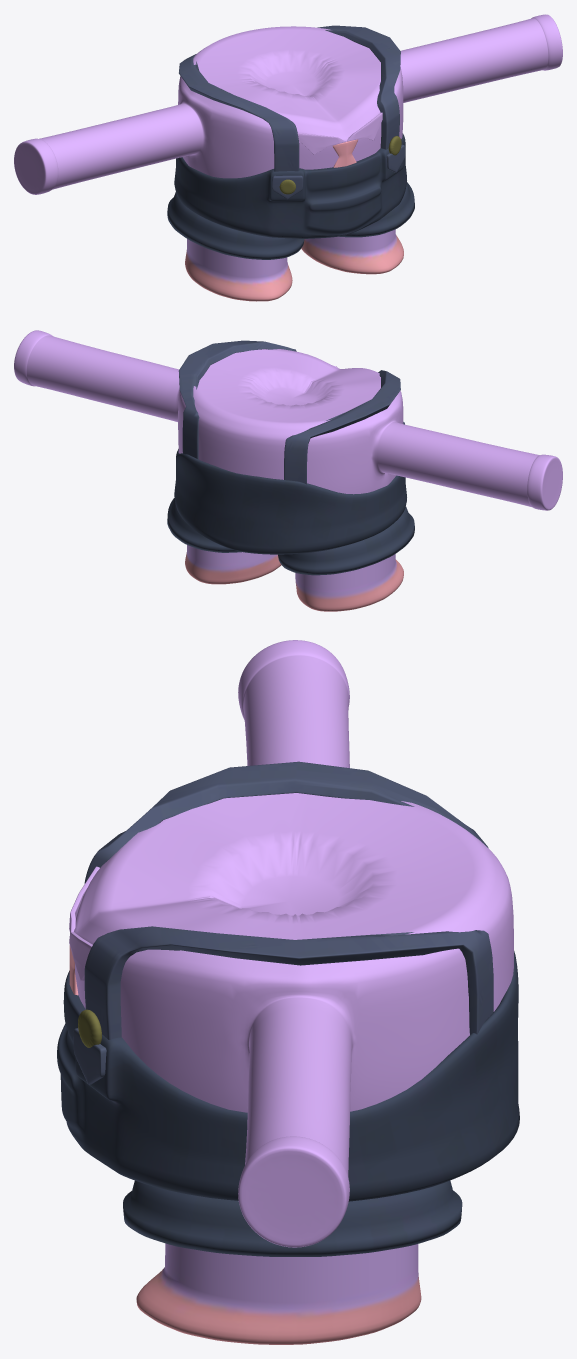
Rendered from activewear.glb.
The picture shows the model from 3 angles, top to bottom: view 1: azimuth 30°, elevation 25°; view 2: azimuth 150°, elevation 25°; view 3: azimuth 270°, elevation 25°; orthographic projection. The views are drawn at different scales.
Parts seen in each view (by area): view 1: AO_TT (×4); view 2: AO_TT (×4); view 3: AO_TT (×4).
Boxes of the visible parts, x1,y1,x2,y2 form: AO_TT (×4): [14, 14, 562, 301]; AO_TT (×4): [14, 330, 562, 611]; AO_TT (×4): [57, 640, 519, 1344].
Size of the model in its own units: 1.03 by 0.3716 by 0.3923.
Materials: 4 (3 with a texture image).
